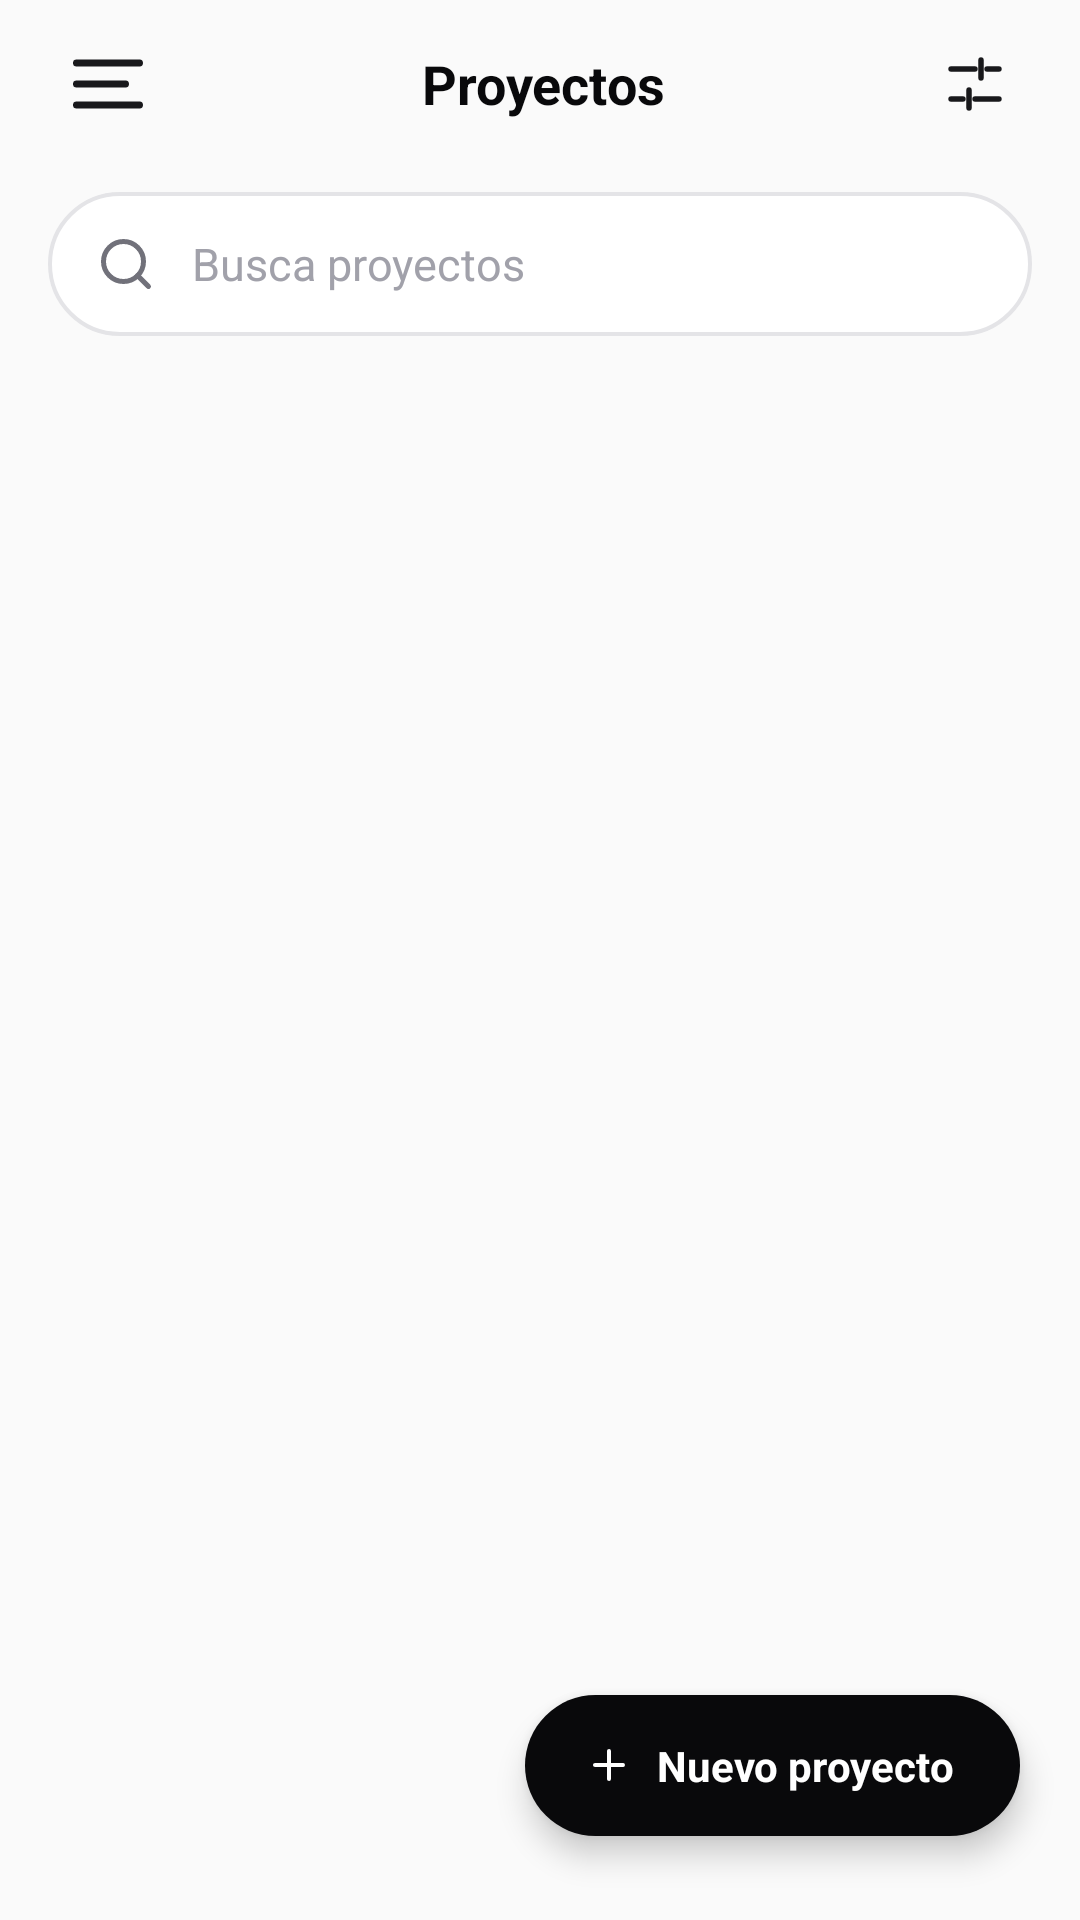

Point at icon controls on the screen. Image size 1080 × 1920, points as [x,y].
Anadir: [609,1765]
Buscar: [126,264]
Filtros: [975,84]
Menu: [108,84]
